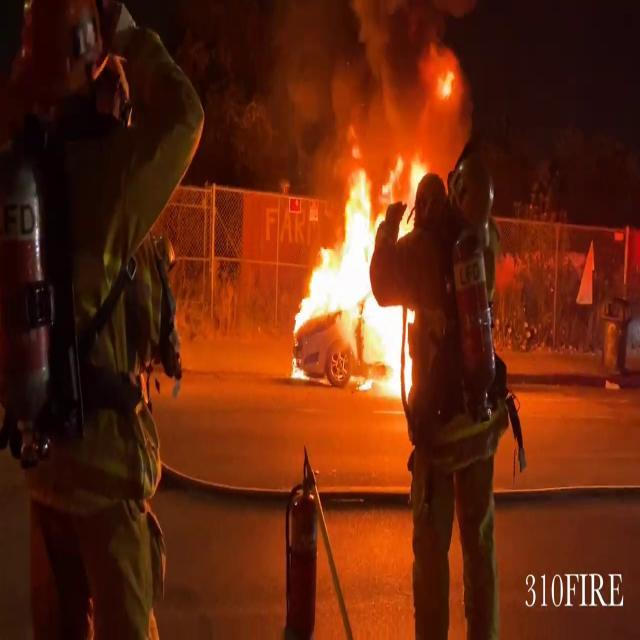Fire: (287, 126, 427, 400)
Smoke: (270, 0, 476, 165)
